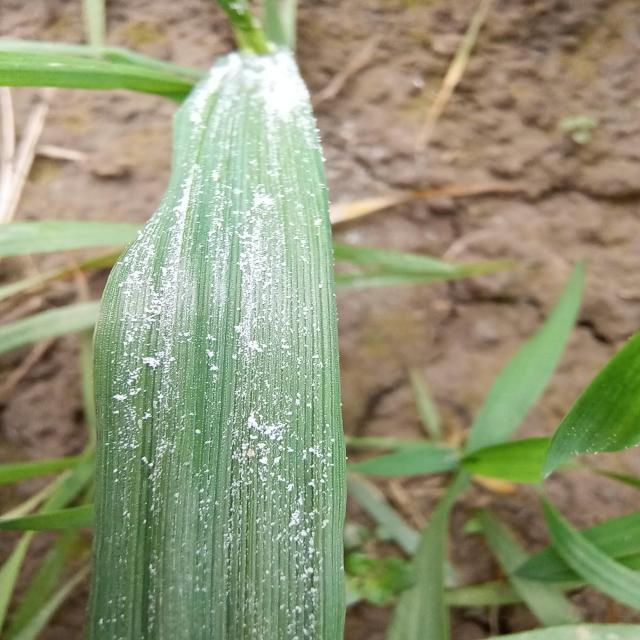Powdery Mildew: (176, 118, 324, 448)
